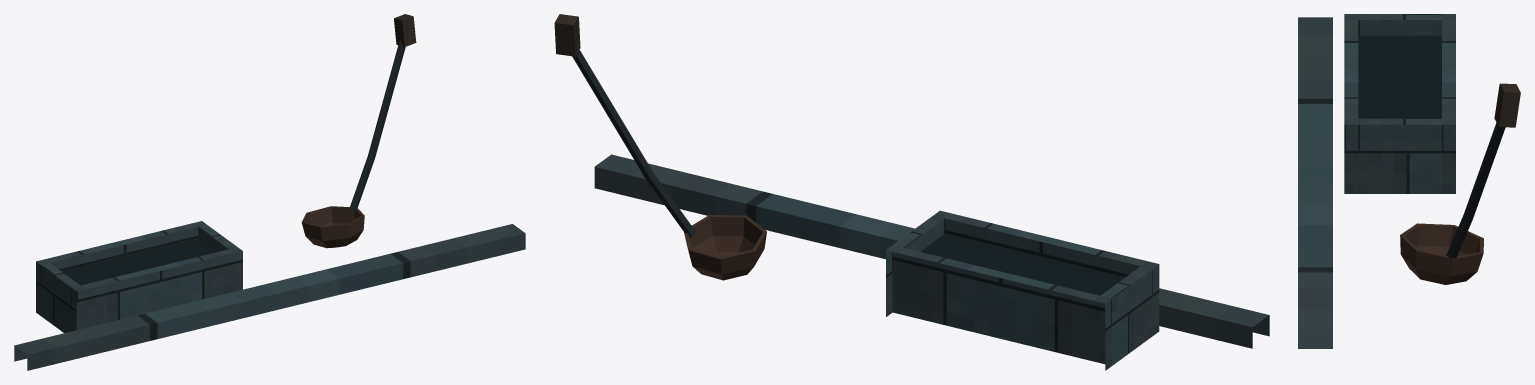
File: T1_Lane_Start_A.fbx
3 views of the same model, side by side, from view 1: azimuth 30°, elevation 25°; view 2: azimuth 150°, elevation 25°; view 3: azimuth 270°, elevation 25° (orthographic). The views are drawn at different scales.
Parts seen in each view (by area): view 1: T1_Lane_Start_A; view 2: T1_Lane_Start_A; view 3: T1_Lane_Start_A.
Part boxes in pixels (x1,y1,x2,y2): T1_Lane_Start_A: (14, 14, 525, 370); T1_Lane_Start_A: (554, 14, 1269, 370); T1_Lane_Start_A: (1298, 14, 1520, 348).
Size of the model in its own units: 4.5 by 1.62 by 1.28.
